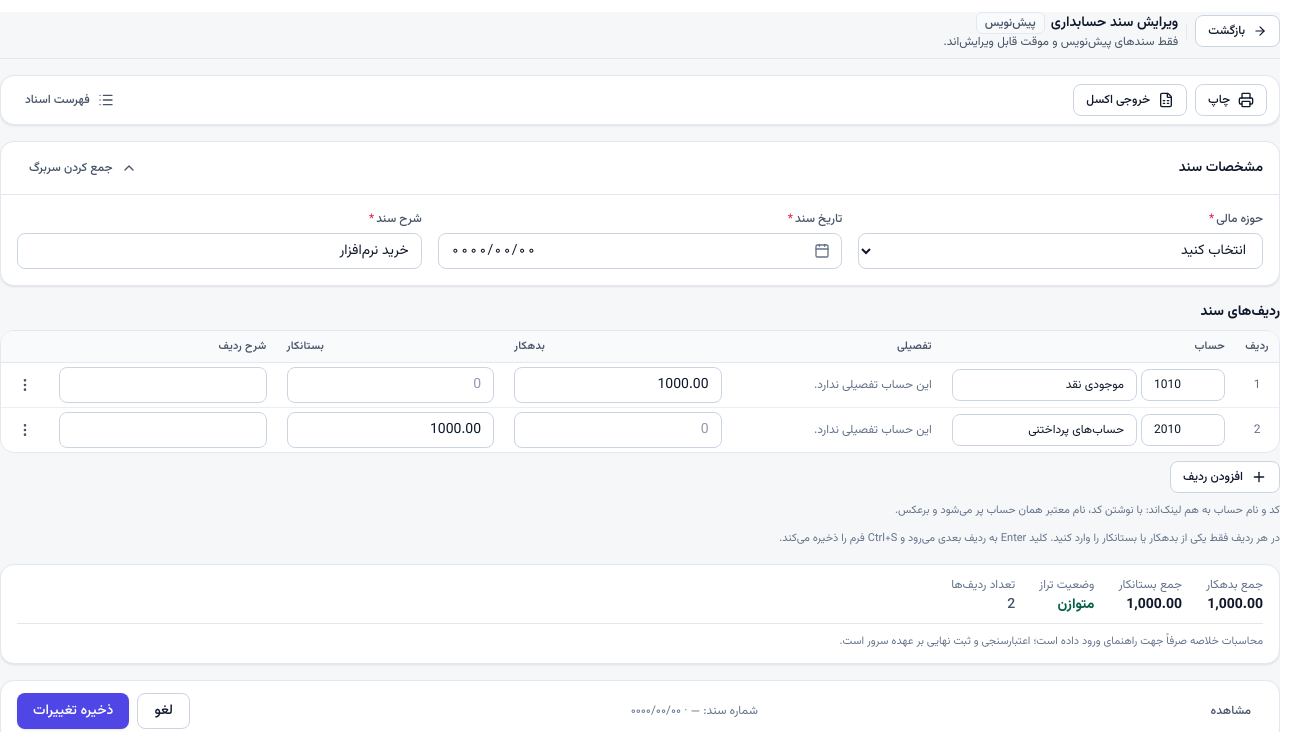
Document edit — submission › maps a server business-rule rejection to its mapped Persian message
In the field labelled "شرح سند": (219, 251) [17,233,422,269], type " اضافه"
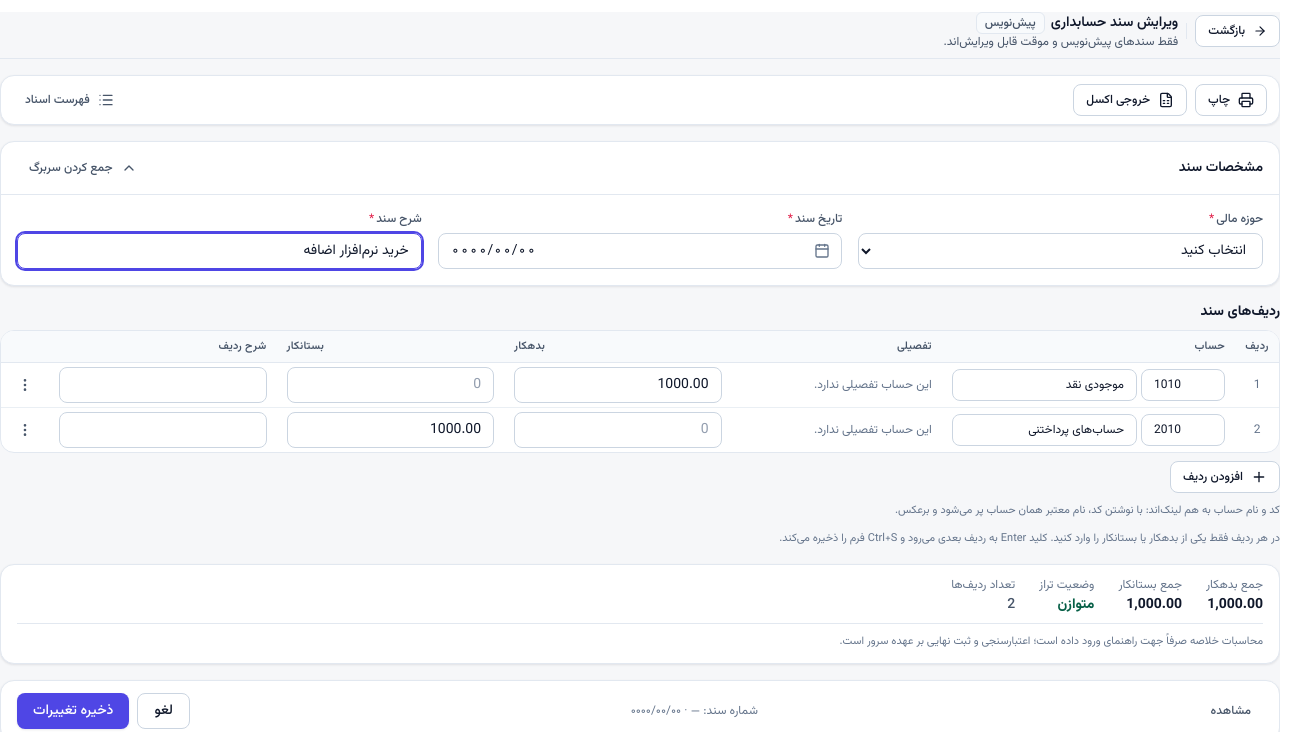
Click the button "ذخیره تغییرات": (73, 711) [17,693,129,729]
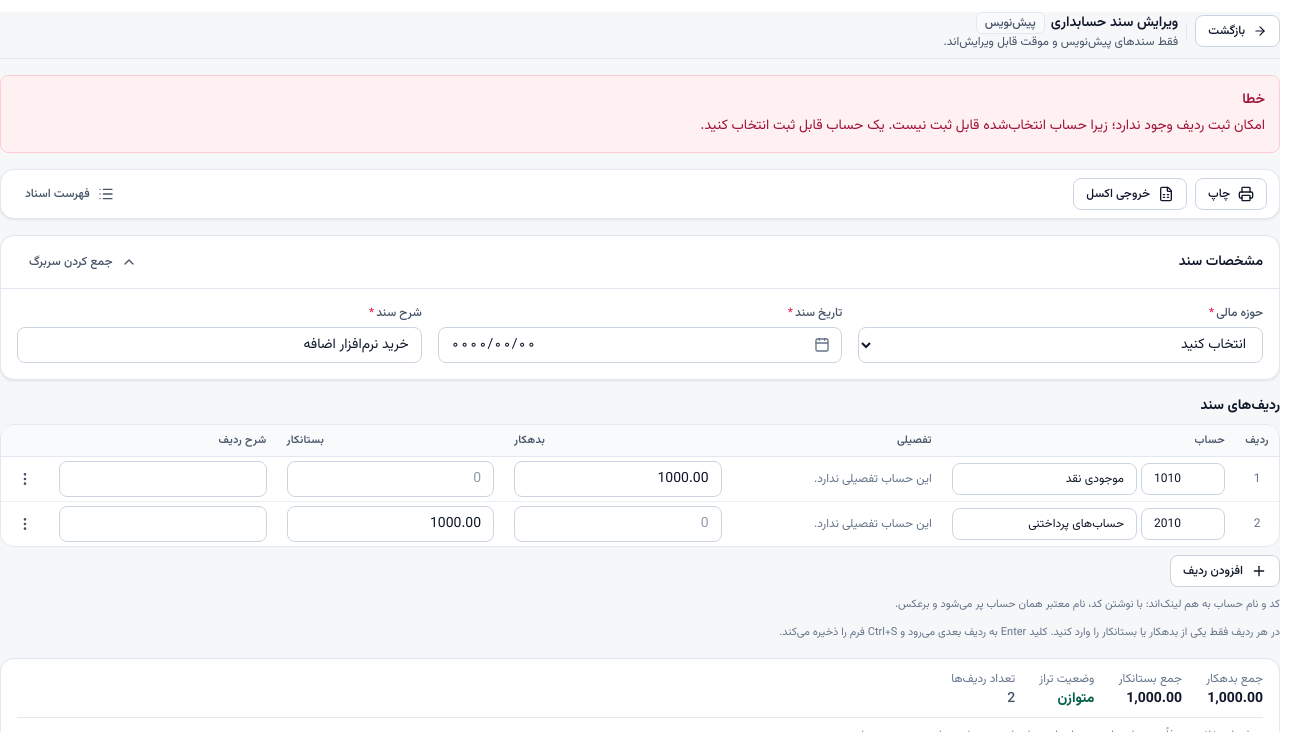
Check: the text "امکان ثبت ردیف وجود ندارد؛ زیرا حساب انتخاب‌شده قابل ثبت نیست. یک حساب قابل ثبت انتخاب کنید." is shown, box [701,115,1265,137]
